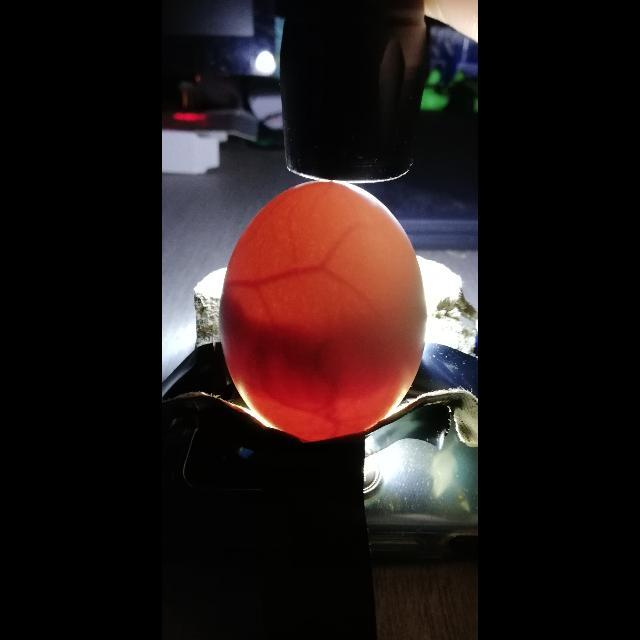Fertile: (222, 179, 426, 449)
